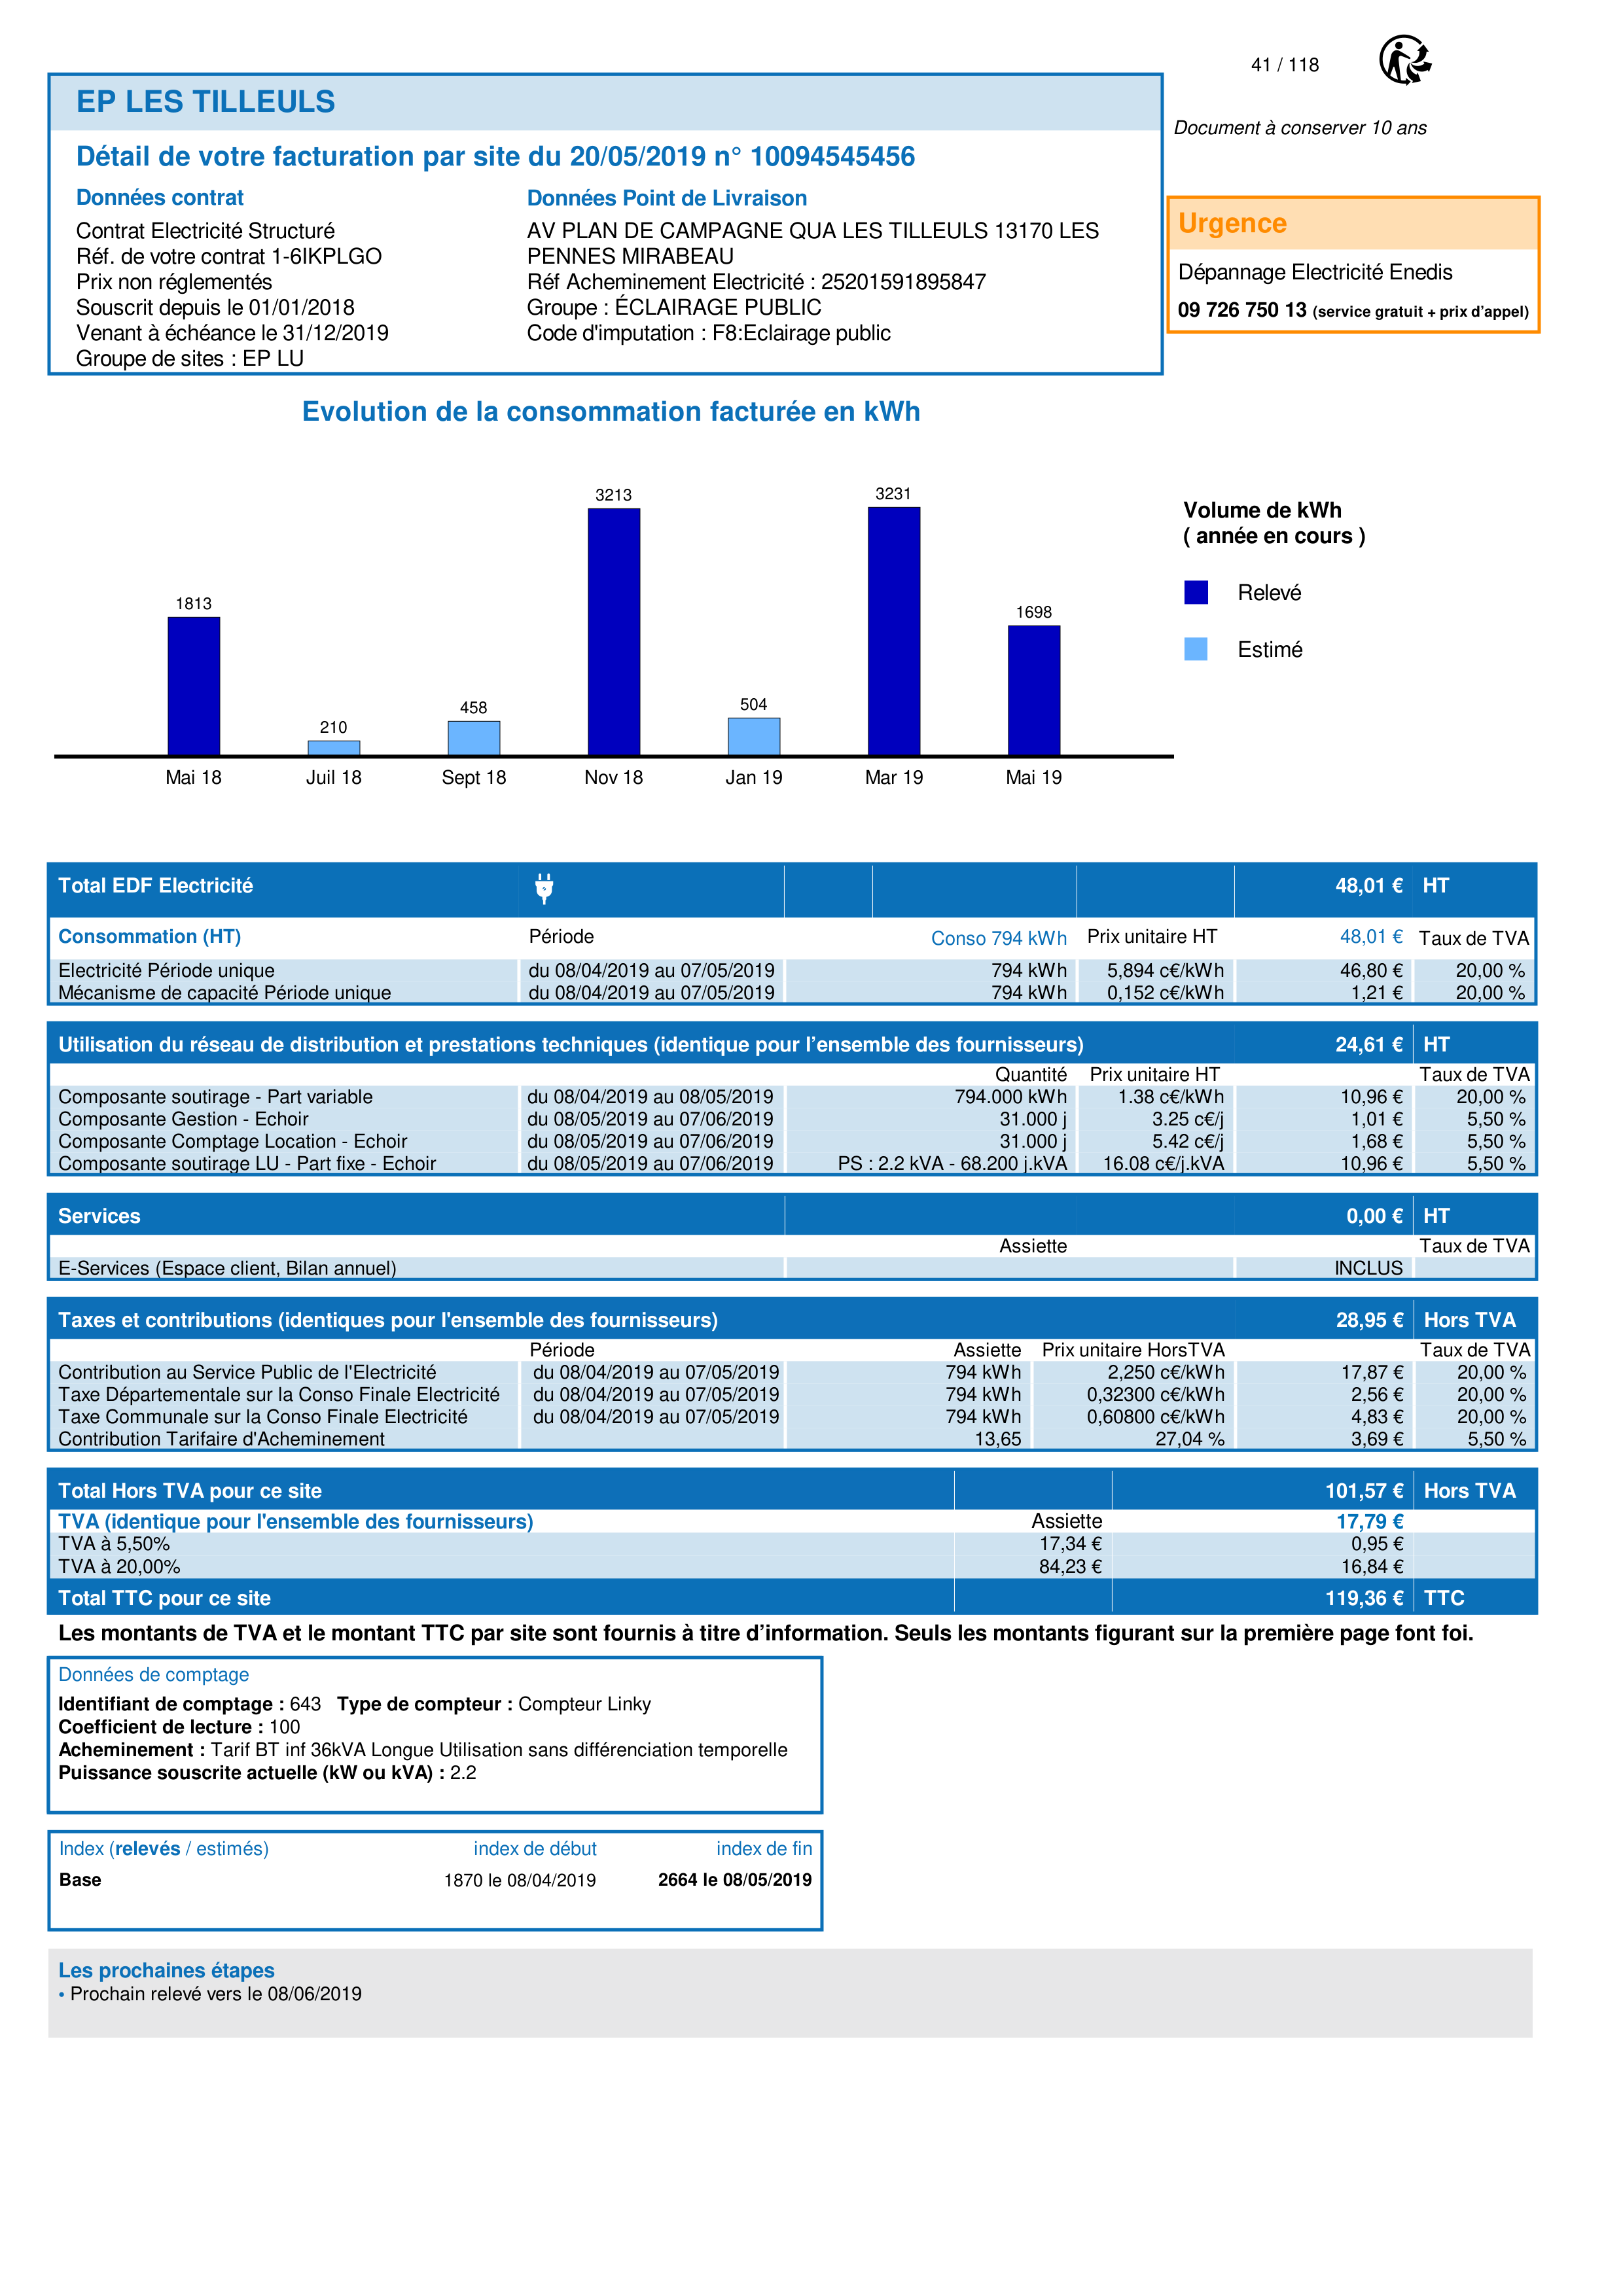area: (48, 1829, 821, 1933)
type_indicator: (47, 1829, 279, 1867)
